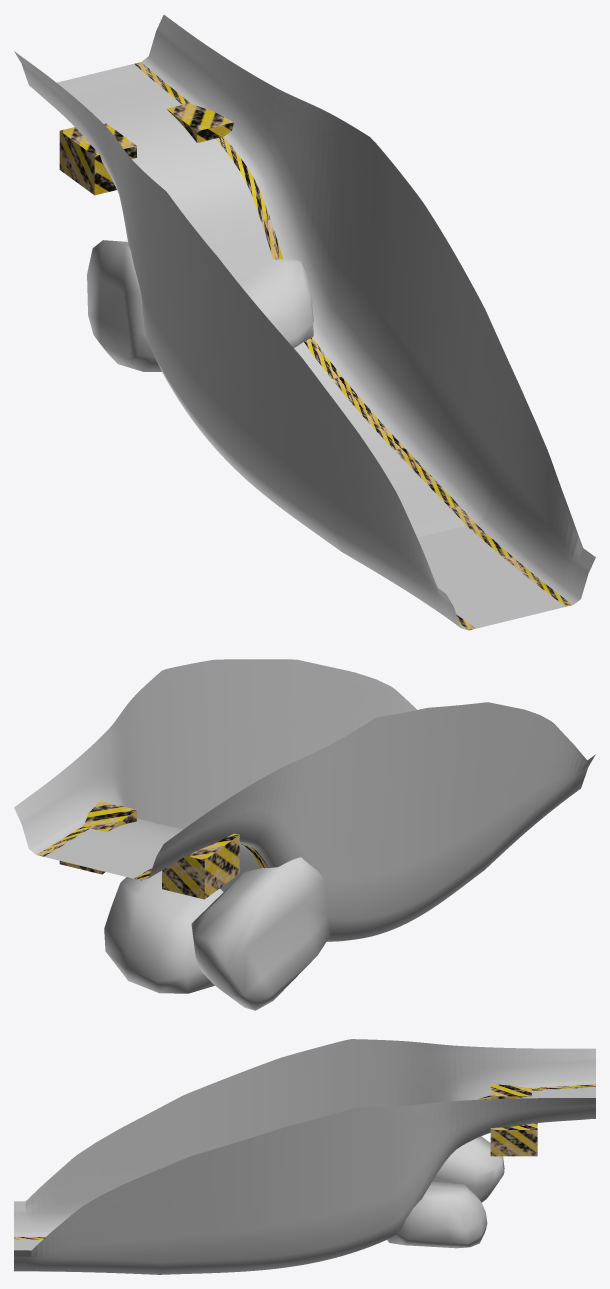
The model's file is schans_Chunk.fbx.
The picture shows the model from 3 angles, top to bottom: view 1: azimuth 30°, elevation 25°; view 2: azimuth 150°, elevation 25°; view 3: azimuth 270°, elevation 25°; orthographic projection. The views are drawn at different scales.
Visible parts, largest first — view 1: schans_Chunk; view 2: schans_Chunk; view 3: schans_Chunk.
Part boxes in pixels (x1=…): schans_Chunk: x1=14, y1=15, x2=595, y2=630; schans_Chunk: x1=14, y1=659, x2=595, y2=1010; schans_Chunk: x1=14, y1=1039, x2=595, y2=1274.
Size of the model in its own units: 56.4 by 68.57 by 200.
